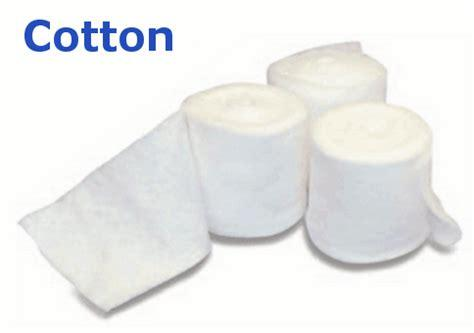cotton: (152, 65, 455, 281)
